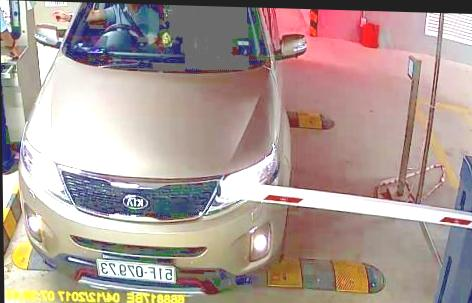License_Plate: (95, 259, 175, 282)
